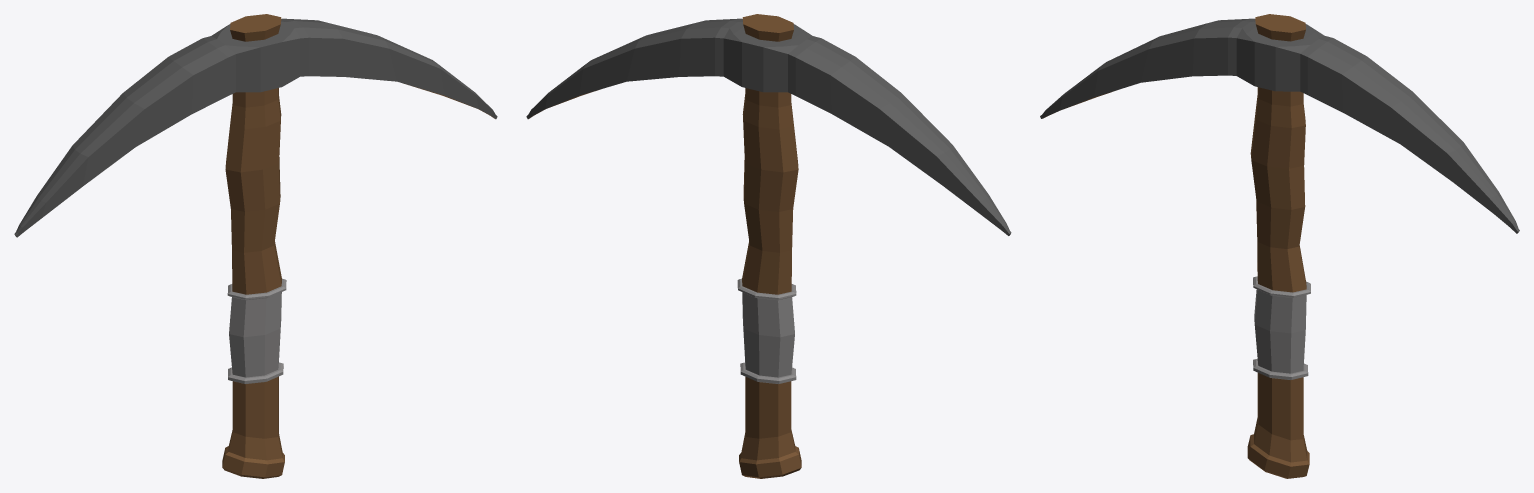
The model's file is RockPickaxe.fbx.
3 renders of one model, left to right at view 1: azimuth 30°, elevation 25°; view 2: azimuth 150°, elevation 25°; view 3: azimuth 330°, elevation 25°, orthographic.
Visible parts, largest first — view 1: Cube.003; view 2: Cube.003; view 3: Cube.003.
Boxes of the visible parts, bbox=[...] form: Cube.003: bbox=[14, 14, 497, 478]; Cube.003: bbox=[526, 14, 1011, 478]; Cube.003: bbox=[1040, 14, 1519, 478].
Size of the model in its own units: 4421 by 3962 by 498.
